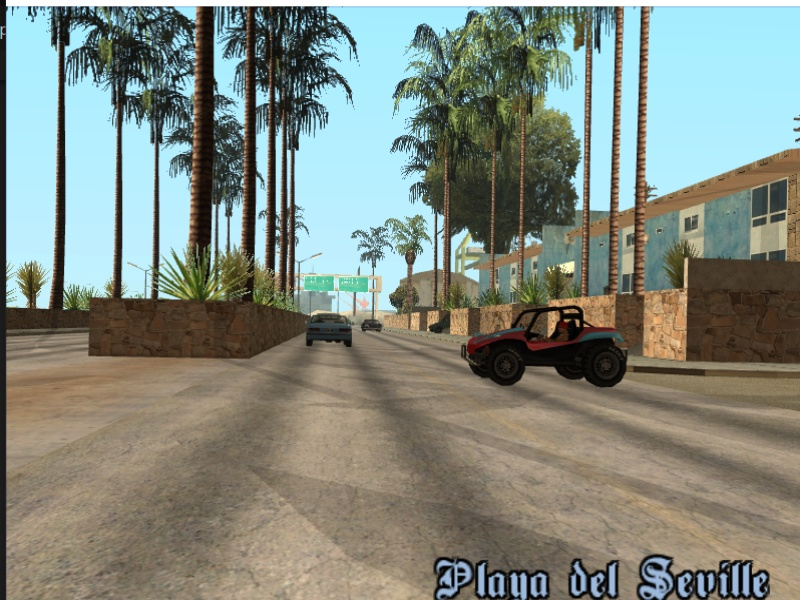tree: (188, 8, 222, 291), (238, 8, 259, 302), (266, 11, 277, 303)
vehicle: (467, 296, 633, 394), (307, 309, 356, 351), (361, 318, 383, 334)
